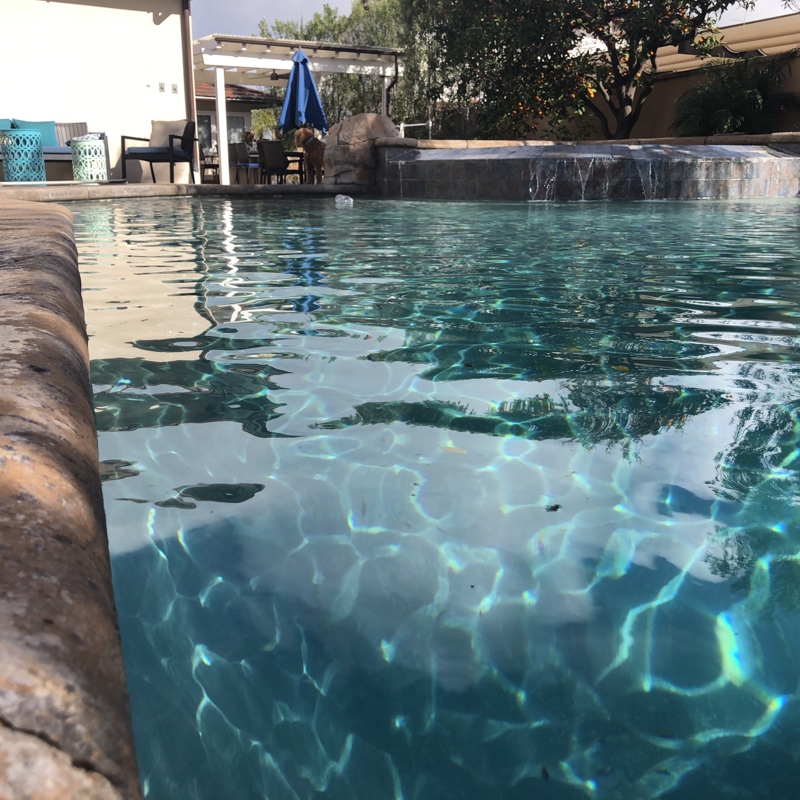Plastic Bottle: (337, 193, 352, 209)
